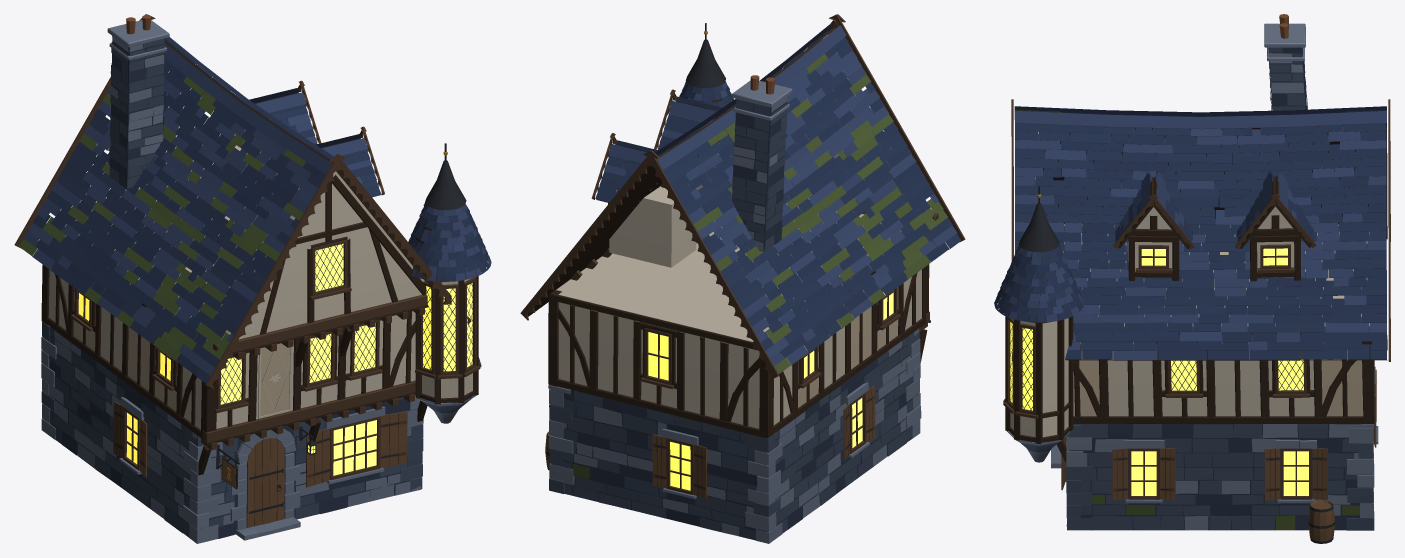
Rendered from house_02.glb.
3 renders of one model, left to right at view 1: azimuth 30°, elevation 25°; view 2: azimuth 150°, elevation 25°; view 3: azimuth 270°, elevation 25°, orthographic. The views are drawn at different scales.
Parts seen in each view (by area): view 1: isl_house_02; view 2: isl_house_02; view 3: isl_house_02.
Part boxes in pixels (<box>): isl_house_02: <box>14,14,491,543</box>; isl_house_02: <box>520,14,965,543</box>; isl_house_02: <box>994,14,1390,543</box>.
Bounding box in the file's own units: 7.88 × 11.15 × 9.39.
